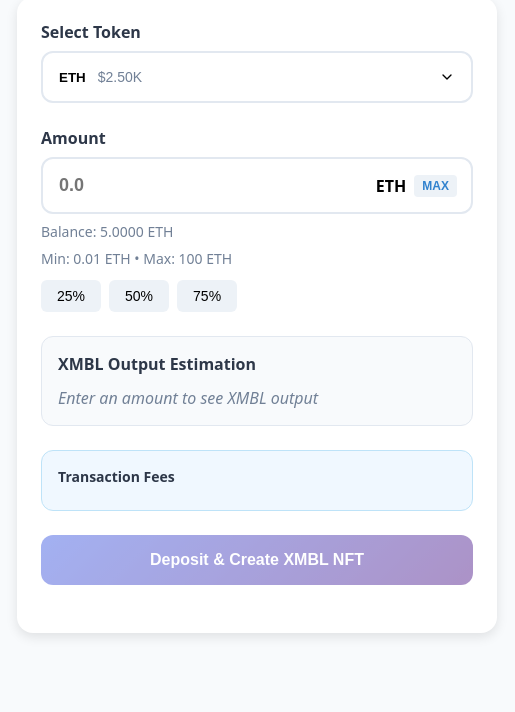
Scenario: DepositForm › should show validation error for amount below minimum
The image size is (515, 712).
Type "0.005" into the field with test id "amount-input" at coordinates (257, 186), box [41, 157, 473, 214]
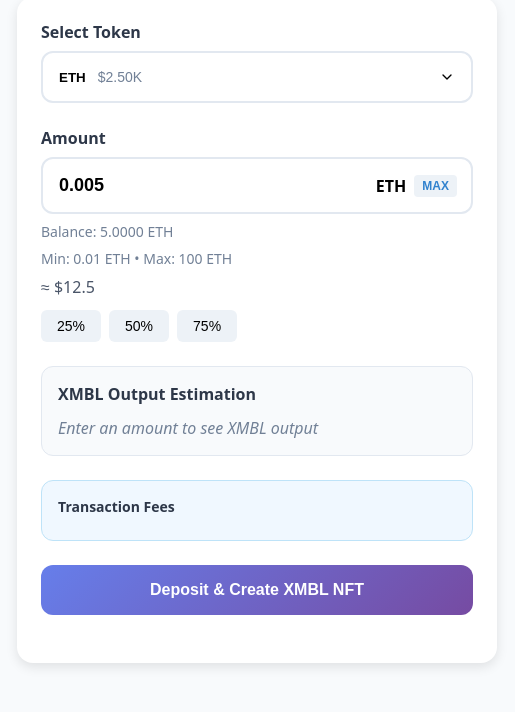
Leave the field with test id "amount-input", box [41, 157, 473, 214]
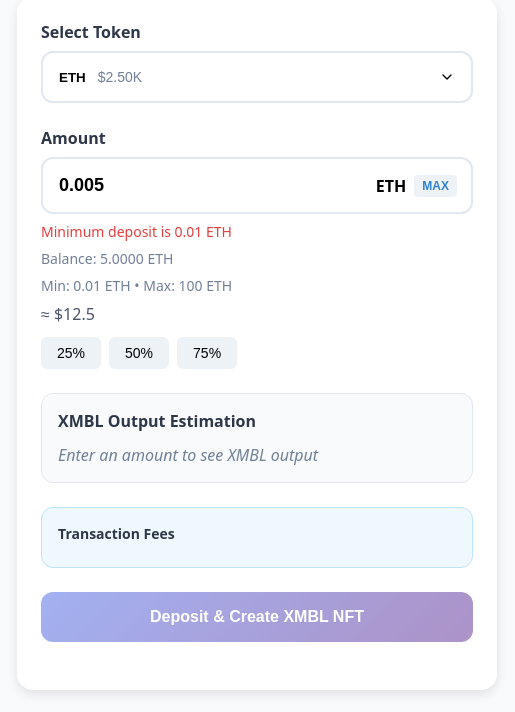
Expected: the message with test id "validation-error" reads "Minimum deposit is 0.01 ETH", [41, 222, 232, 241]
